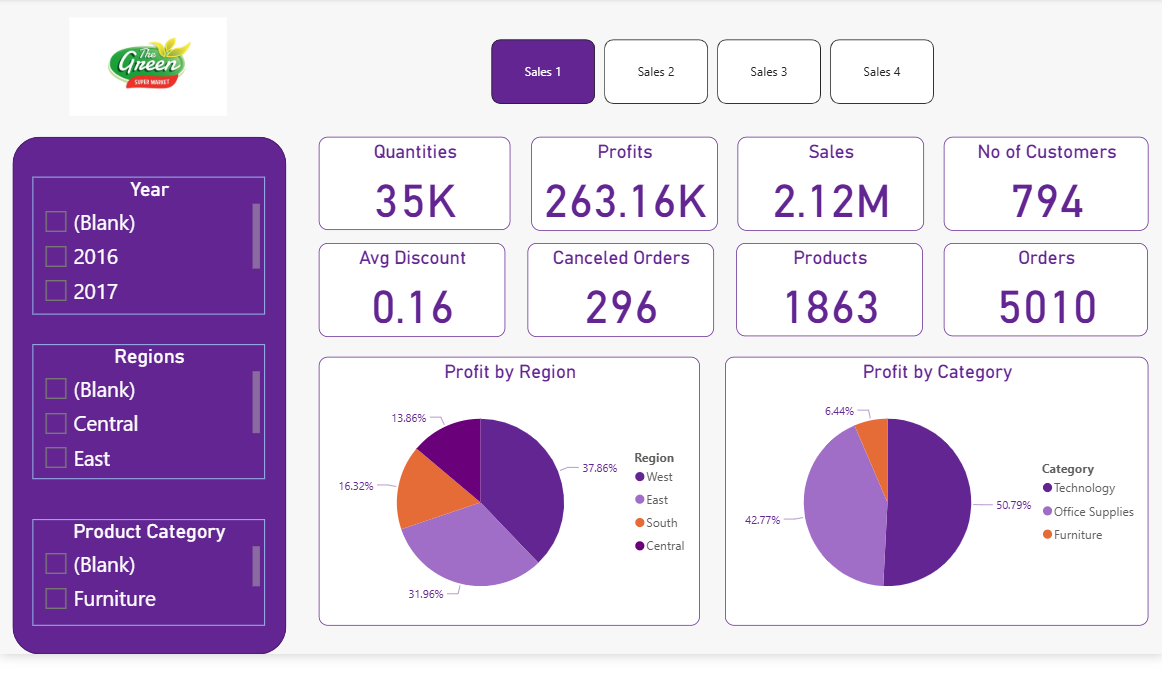

Layout of this report page (visuals, bound fields, positions):
{"tool":"powerbi","page":{"name":"Sales 1","canvas":[1280,720],"ordinal":0},"visuals":[{"type":"shape","box":[13.7,152.3,300.5,568.1],"z":9000},{"type":"card","title":"No of Customers","fields":{"Values":["Count(Orders.Customer ID)"]},"box":[1036,152.3,225,102.9],"z":9250},{"type":"card","title":"Profits","fields":{"Values":["Orders.TotalProfitNotReturned"]},"box":[583,152.5,204.5,102.9],"z":9375},{"type":"card","title":"Sales","fields":{"Values":["Orders.TotalSalesNotReturned"]},"box":[809.5,152.7,204.5,102.9],"z":9437},{"type":"card","title":"Quantities","fields":{"Values":["Orders.TotalQuantitiesNotReturned"]},"box":[350.6,152.9,210.3,102.4],"z":9468},{"type":"pieChart","title":"Profit by Region","fields":{"Y":["Sum(Orders.Profit)"],"Category":["Orders.Region"]},"box":[349.9,393.8,418.5,295],"z":10000},{"type":"card","title":"Orders","fields":{"Values":["Count(Orders.Order ID)"]},"box":[1036.7,269.2,224.4,102.4],"z":10500},{"type":"card","title":"Products","fields":{"Values":["Count(Orders.Product ID)"]},"box":[807.8,269.2,204.7,102.4],"z":10750},{"type":"card","title":"Canceled Orders","fields":{"Values":["Count(Returns.Order ID)"]},"box":[579.2,269.2,204.5,102.9],"z":10875},{"type":"card","title":"Avg Discount","fields":{"Values":["Avg(Orders.Discount)"]},"box":[350.6,269.2,204.5,102.9],"z":10937},{"type":"pieChart","title":"Profit by Category","fields":{"Y":["Sum(Orders.Profit)"],"Category":["Orders.Category"]},"box":[795.9,393.8,465.2,295],"z":11000},{"type":"slicer","title":"Year","fields":{"Values":["Orders.Order Date.Variation.Date Hierarchy.Year"]},"box":[35.7,196.2,255.2,150.9],"z":14000},{"type":"slicer","title":"Regions","fields":{"Values":["Orders.Region"]},"box":[35.7,380.1,255.2,148.2],"z":18000},{"type":"slicer","title":"Product Category","fields":{"Values":["Orders.Category"]},"box":[35.7,572.2,255.2,116.6],"z":19000},{"type":"pageNavigator","box":[539.3,45.3,488.5,71.4],"z":20000},{"type":"image","box":[37,16.5,251.1,118],"z":20001}]}

Visuals, with their boxes on the page's 1280x720 design canvas (x1, y1, x2, y2). These are canvas units, not pixel positions in the 1162x688 screenshot, which may show the page scaled, cropped or inside an application window:
shape: (left=14, top=152, right=314, bottom=720)
"No of Customers" card: (left=1036, top=152, right=1261, bottom=255)
"Profits" card: (left=583, top=152, right=788, bottom=255)
"Sales" card: (left=810, top=153, right=1014, bottom=256)
"Quantities" card: (left=351, top=153, right=561, bottom=255)
"Profit by Region" pieChart: (left=350, top=394, right=768, bottom=689)
"Orders" card: (left=1037, top=269, right=1261, bottom=372)
"Products" card: (left=808, top=269, right=1012, bottom=372)
"Canceled Orders" card: (left=579, top=269, right=784, bottom=372)
"Avg Discount" card: (left=351, top=269, right=555, bottom=372)
"Profit by Category" pieChart: (left=796, top=394, right=1261, bottom=689)
"Year" slicer: (left=36, top=196, right=291, bottom=347)
"Regions" slicer: (left=36, top=380, right=291, bottom=528)
"Product Category" slicer: (left=36, top=572, right=291, bottom=689)
pageNavigator: (left=539, top=45, right=1028, bottom=117)
image: (left=37, top=16, right=288, bottom=134)
